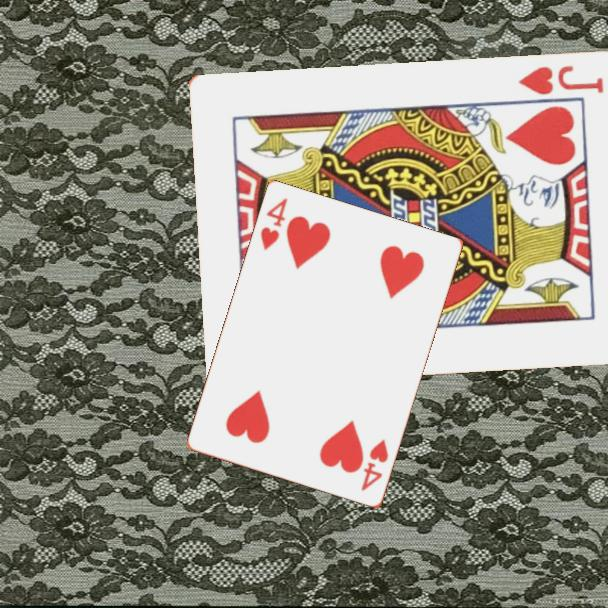h04: (257, 195, 291, 254), (358, 436, 391, 494)
h11: (515, 61, 607, 97)
